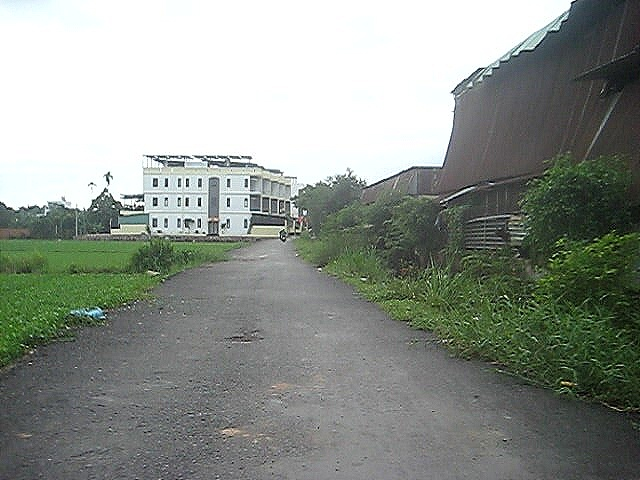hole: (224, 329, 263, 345)
